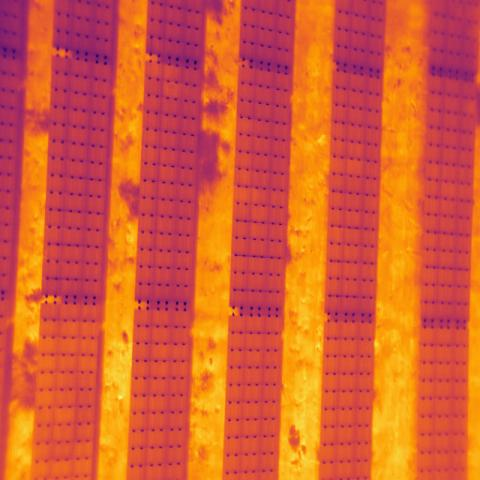fault: (162, 66, 183, 117)
